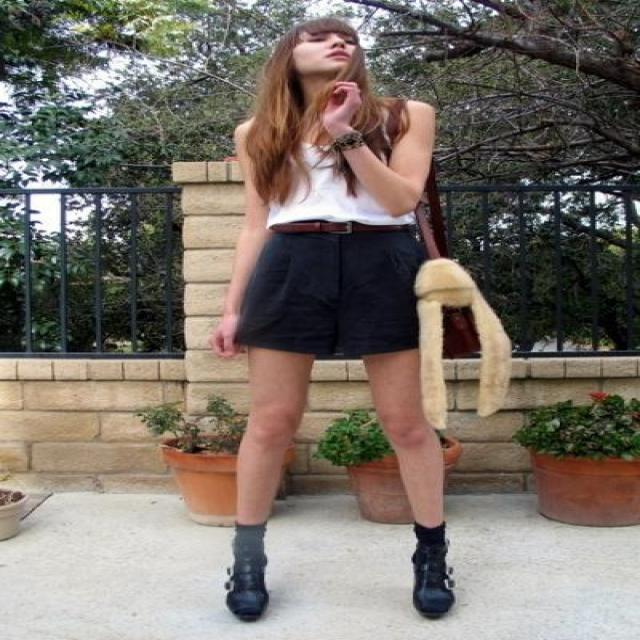shirt: (258, 137, 416, 227)
shoe: (225, 519, 452, 622)
skirt: (232, 220, 429, 359)
